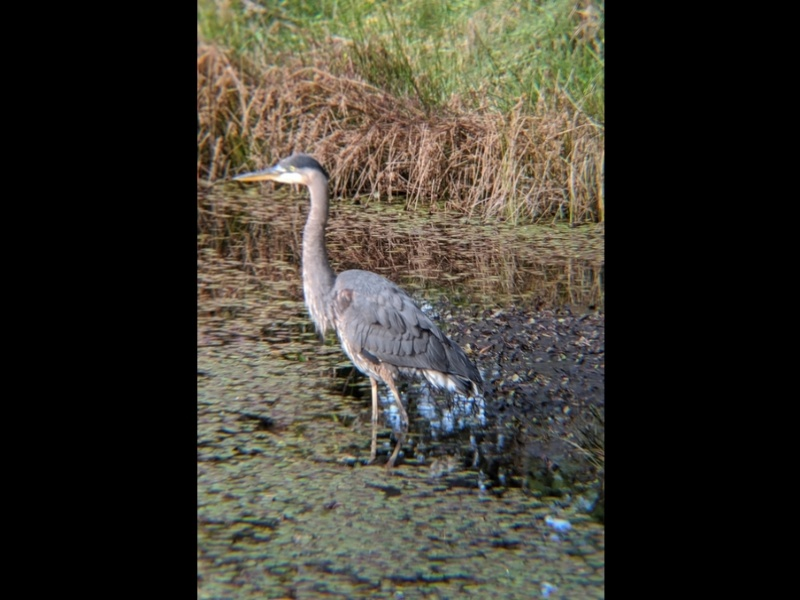heron: (229, 153, 486, 470)
